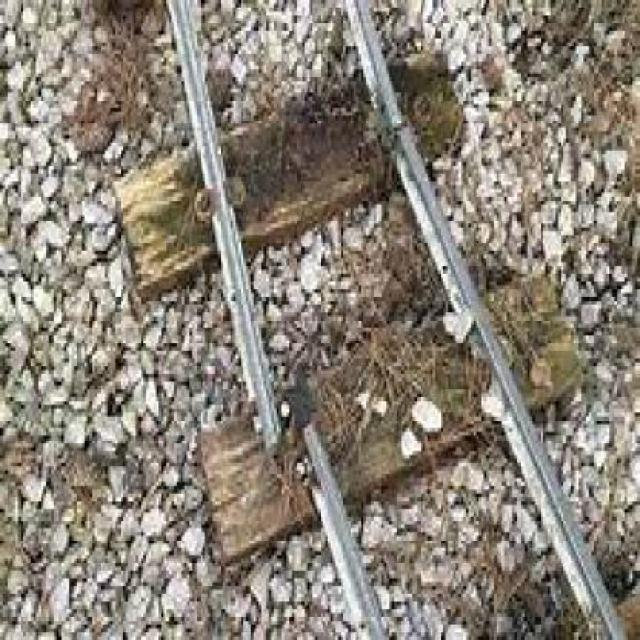defective: (164, 0, 635, 638)
